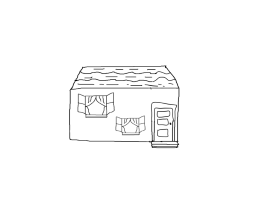door: (148, 97, 185, 150)
open_window: (75, 88, 116, 122), (112, 113, 149, 140)
roof: (62, 62, 183, 93)
small_house: (1, 1, 260, 212)
wall: (66, 83, 183, 152)
